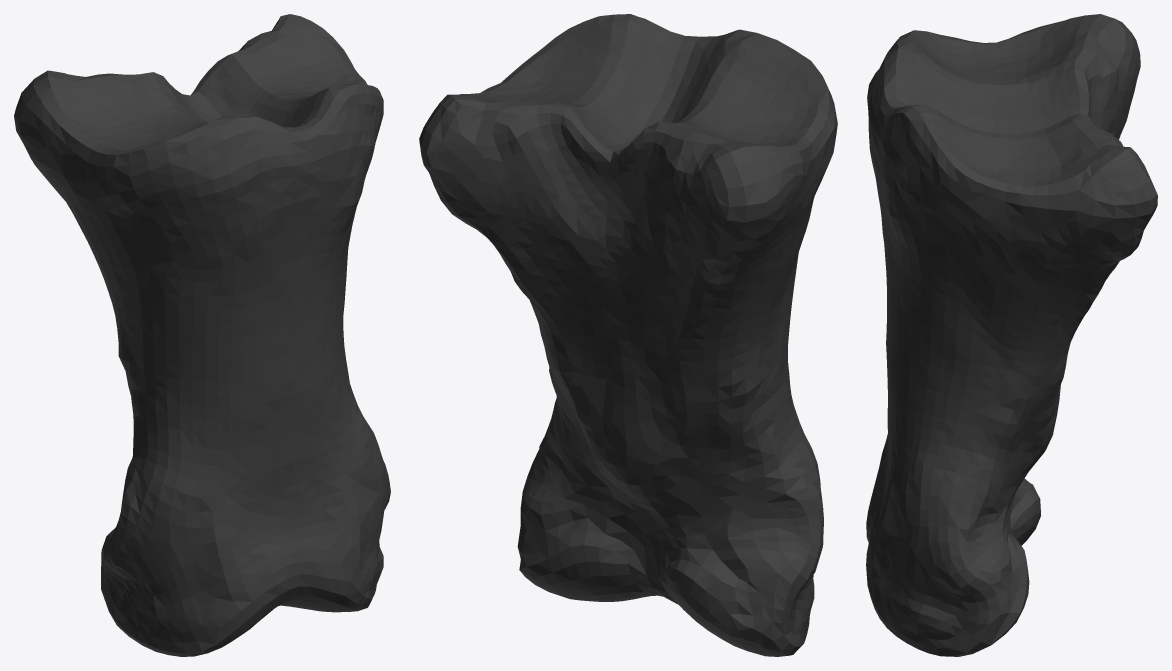
File: phal_prox.glb
3 renders of one model, left to right at view 1: azimuth 30°, elevation 25°; view 2: azimuth 150°, elevation 25°; view 3: azimuth 270°, elevation 25°, orthographic. The views are drawn at different scales.
Parts seen in each view (by area): view 1: phal_prox; view 2: phal_prox; view 3: phal_prox.
Part boxes in pixels (x1,y1,x2,y2): phal_prox: (14, 14, 390, 656); phal_prox: (419, 14, 837, 656); phal_prox: (866, 14, 1157, 656).
Size of the model in its own units: 2.16 by 3.45 by 1.68.
1 material, 1 textured.
